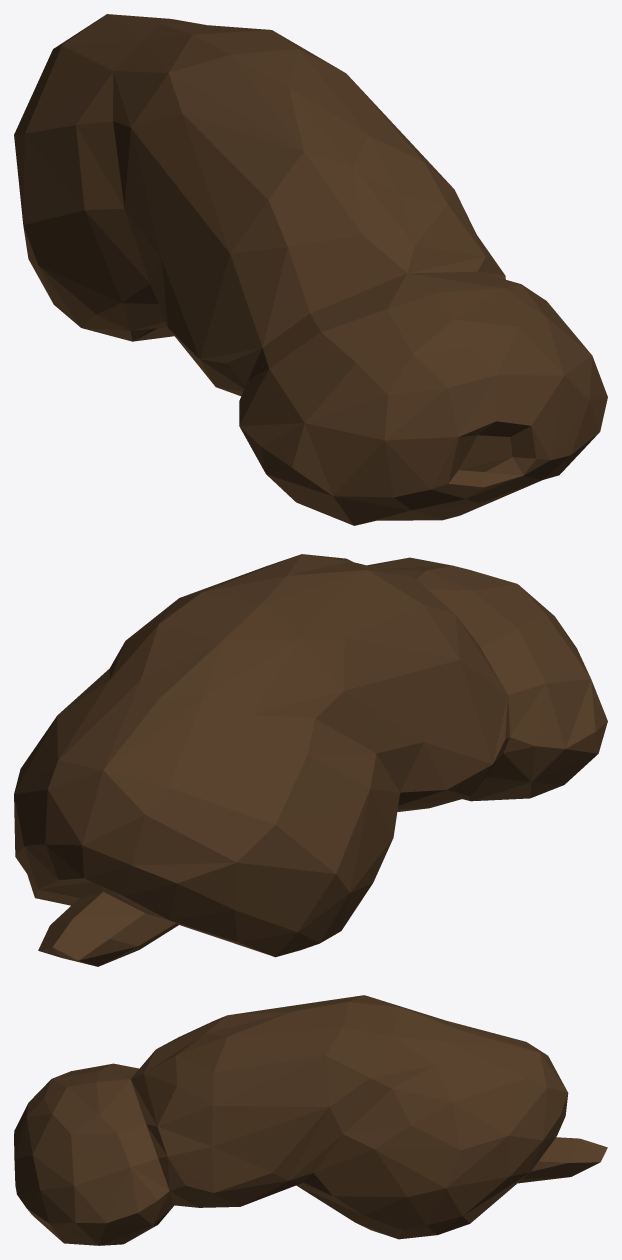
File: ant-thorax.dae
3 renders of one model, top to bottom at view 1: azimuth 30°, elevation 25°; view 2: azimuth 150°, elevation 25°; view 3: azimuth 270°, elevation 25°, orthographic. The views are drawn at different scales.
Visible parts, largest first — view 1: ant-thorax; view 2: ant-thorax; view 3: ant-thorax.
Part boxes in pixels (x1,y1,x2,y2): ant-thorax: (14,14,607,525); ant-thorax: (14,554,607,966); ant-thorax: (14,995,607,1245).
Bounding box in the file's own units: 4.13 × 9.27 × 3.69.
